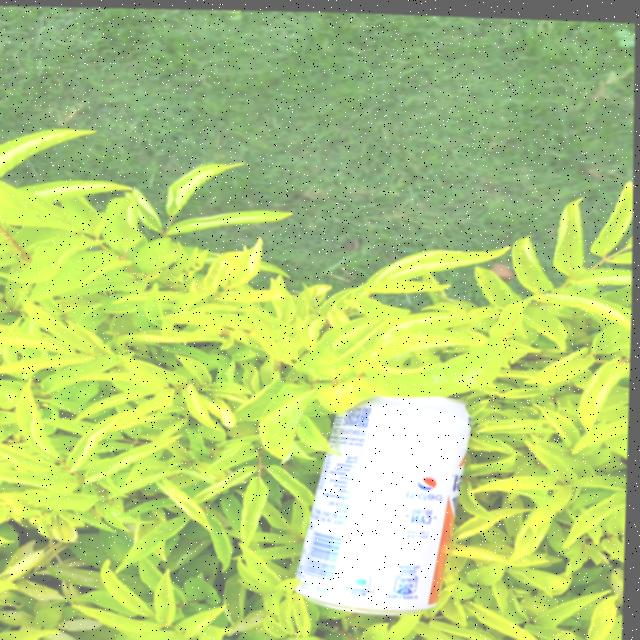Pepsi Retro: (292, 381, 487, 618)
